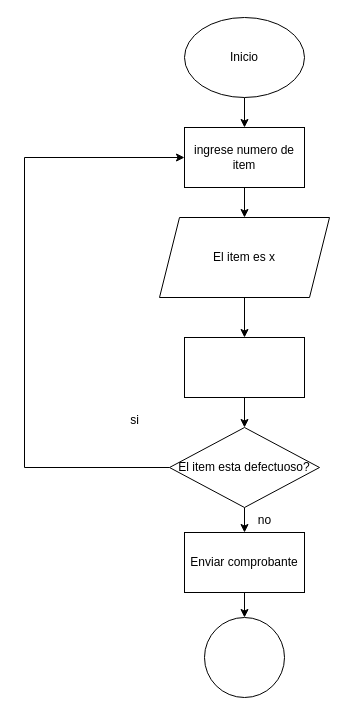
Some shapes in this 347 by 715 pixel diagram are drawn without their labels. The box of each missing label's shape, as (x1, y1, x2, y2) in pixels:
despachar y revisar el item: (184, 336, 304, 398)
FIN: (204, 616, 284, 698)
